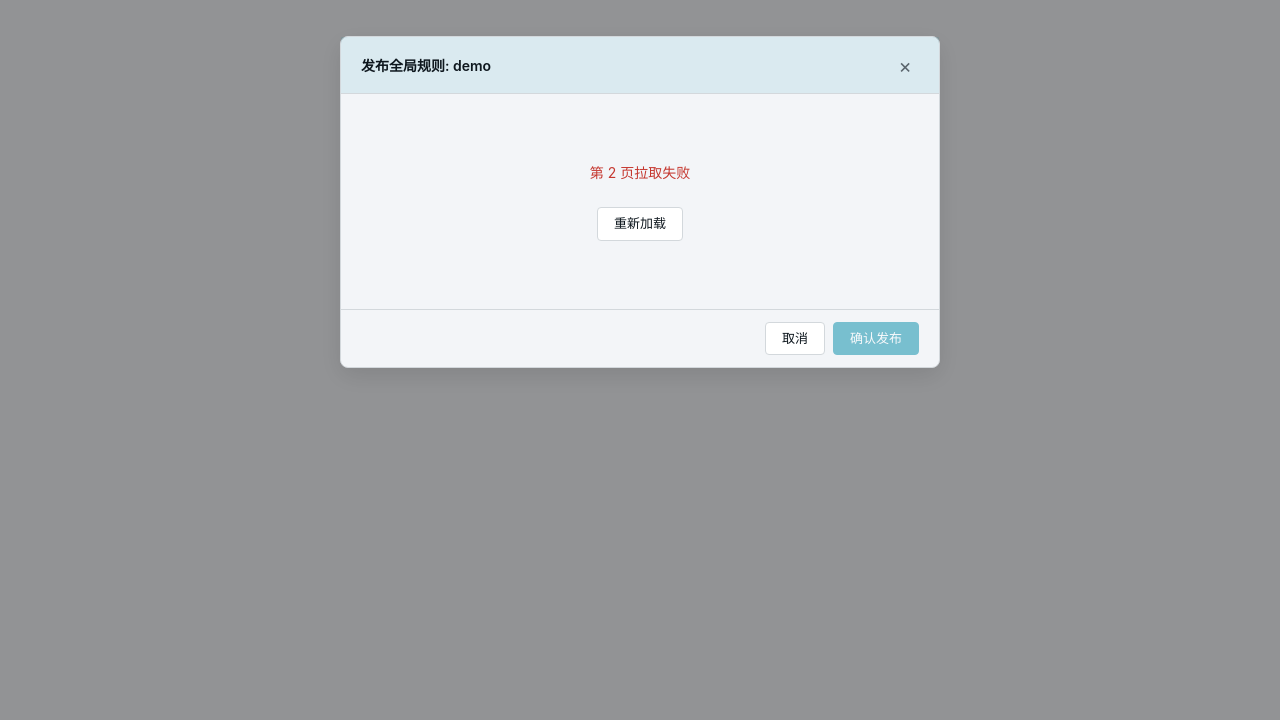
Test case: PublishConfirmModal.vue - 节点清单全量拉取（route-management-ux-batch1 组2） › 分页拉取中途失败（第 2 页）：错误态 + 重新加载出口，不以部分清单静默继续
Click the button "重新加载" at (640, 224), box [597,207,683,240]
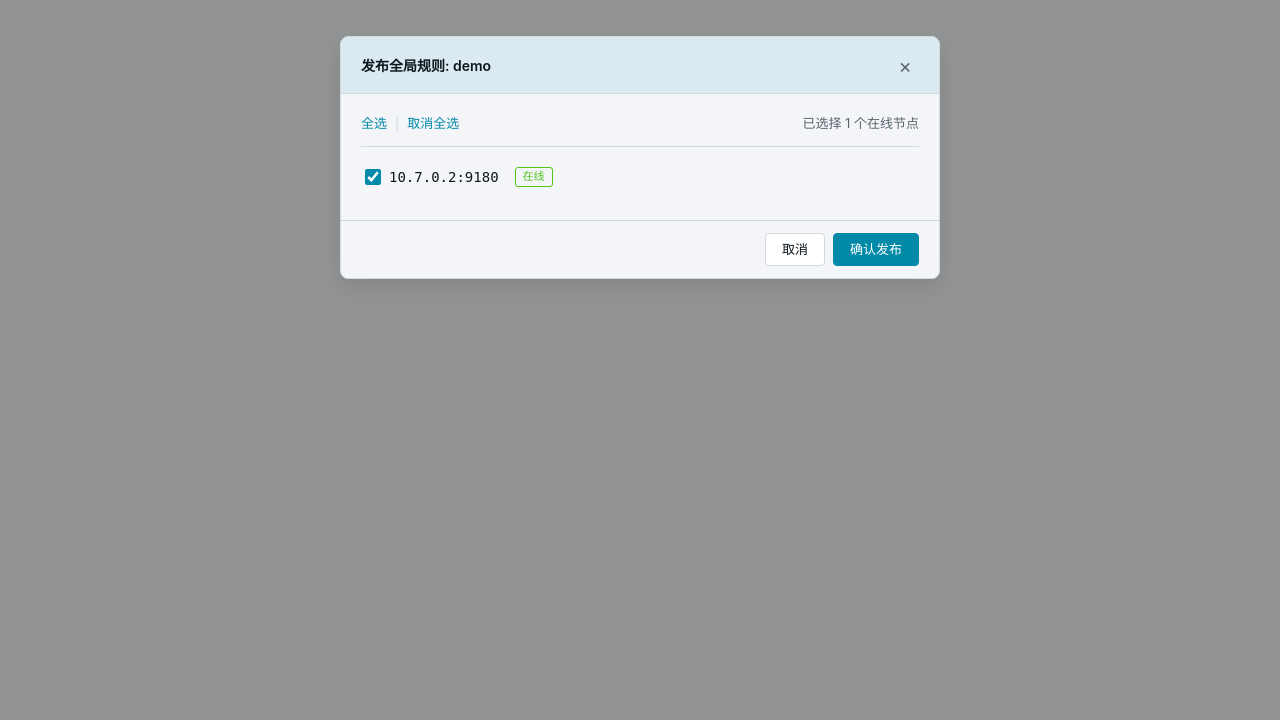
Check: the number of elements with class "node-row" is 1, box [365,167,553,187]
